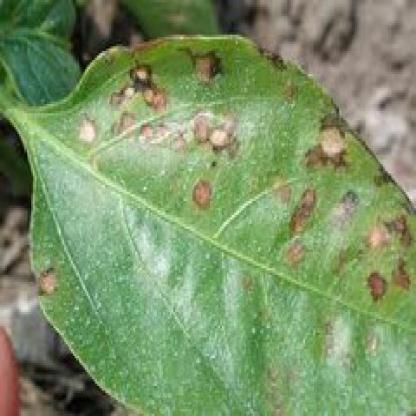Bell_pepper leaf: (24, 30, 412, 414)
